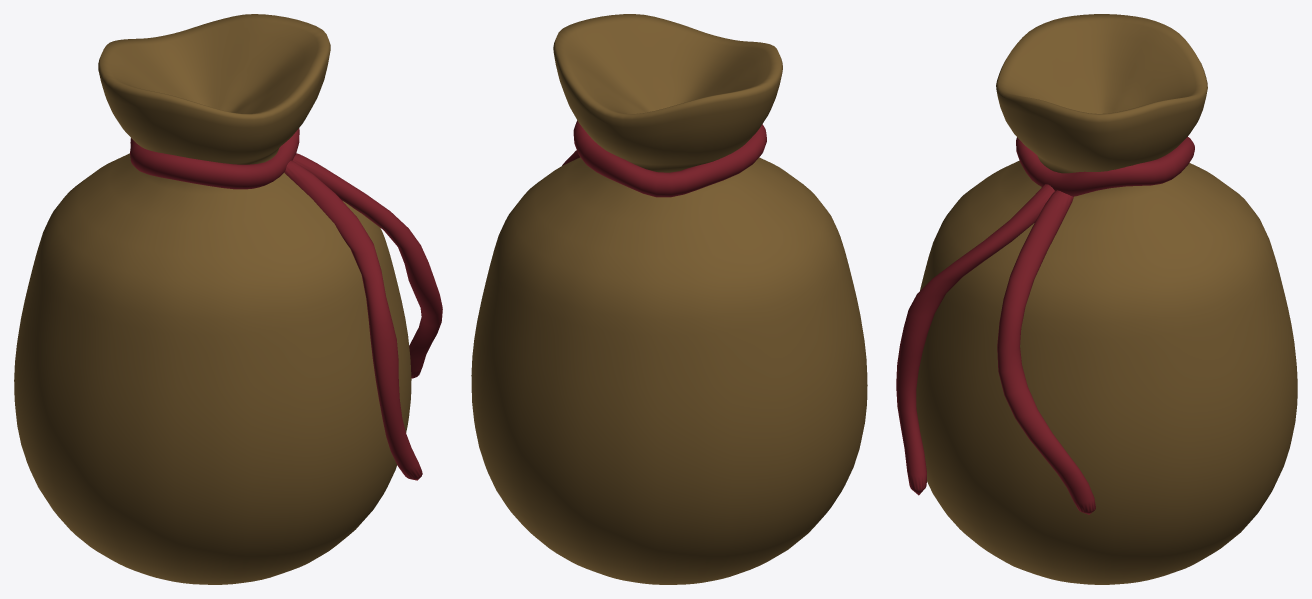
Rendered from kabak-seed.fbx.
3 views of the same model, side by side, from view 1: azimuth 30°, elevation 25°; view 2: azimuth 150°, elevation 25°; view 3: azimuth 270°, elevation 25° (orthographic).
Parts seen in each view (by area): view 1: Cylinder.089; view 2: Cylinder.089; view 3: Cylinder.089.
Boxes of the visible parts, left/top/right/bottom form: Cylinder.089: left=14, top=14, right=442, bottom=584; Cylinder.089: left=471, top=14, right=867, bottom=584; Cylinder.089: left=896, top=14, right=1297, bottom=584.
Bounding box in the file's own units: 17.53 × 22.4 × 16.62.
